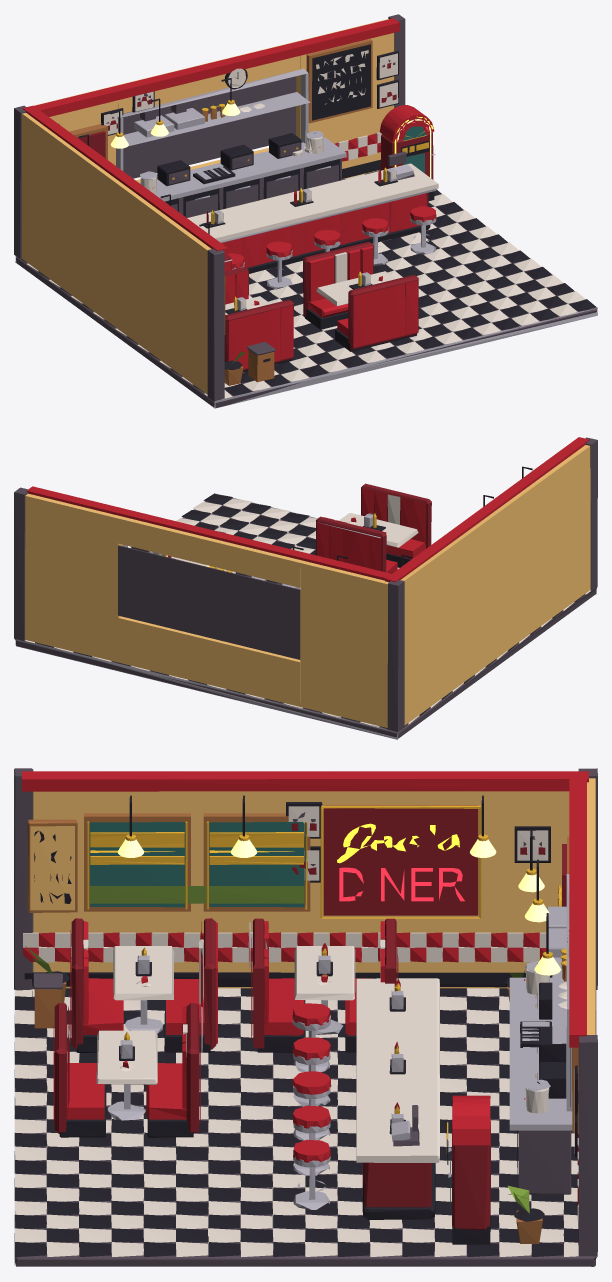
The model's file is int.diner.lod1.glb.
3 renders of one model, top to bottom at view 1: azimuth 30°, elevation 25°; view 2: azimuth 150°, elevation 25°; view 3: azimuth 270°, elevation 25°, orthographic. The views are drawn at different scales.
Parts seen in each view (by area): view 1: interior; view 2: interior; view 3: interior.
Boxes of the visible parts, box(x1,y1,x2,y2) form: interior: box(14, 14, 597, 408); interior: box(14, 437, 597, 739); interior: box(14, 768, 597, 1266).
Size of the model in its own units: 10.05 by 3.88 by 9.04.
